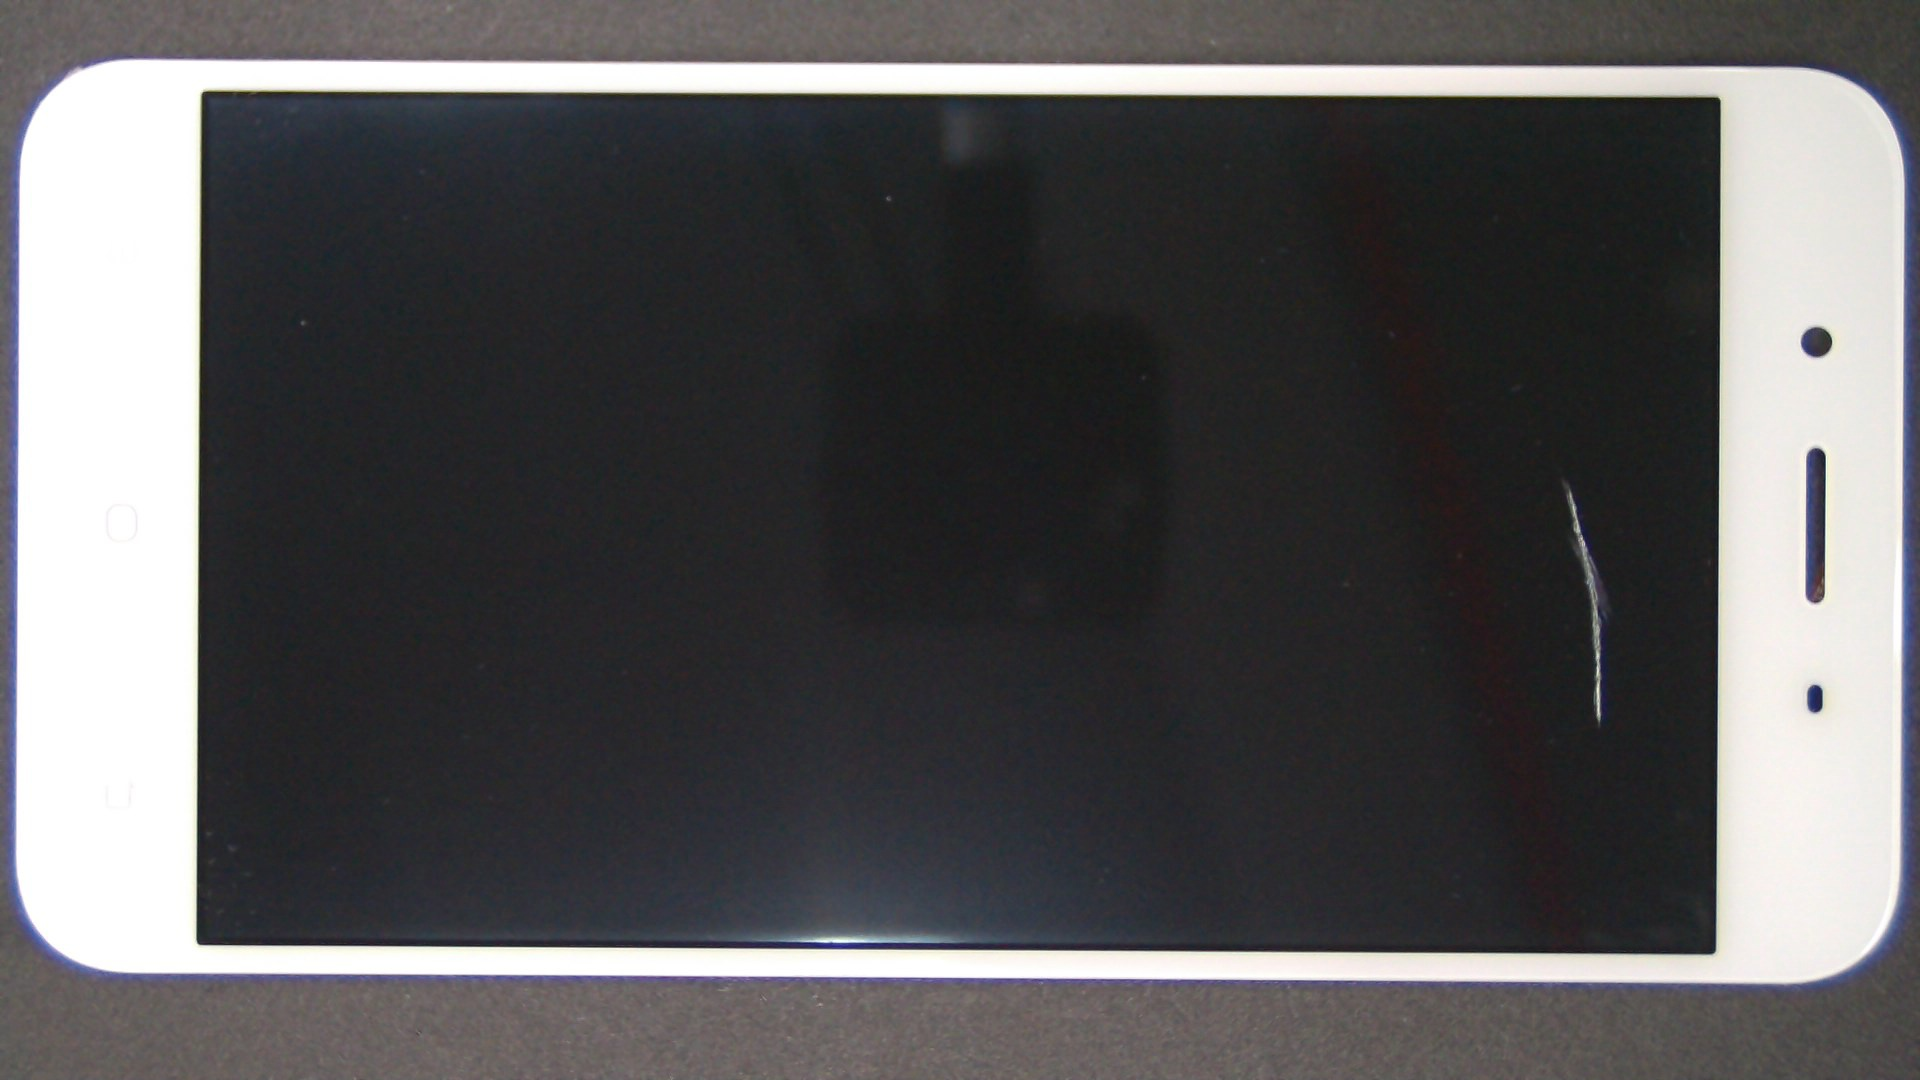oil: (781, 240, 1920, 723)
